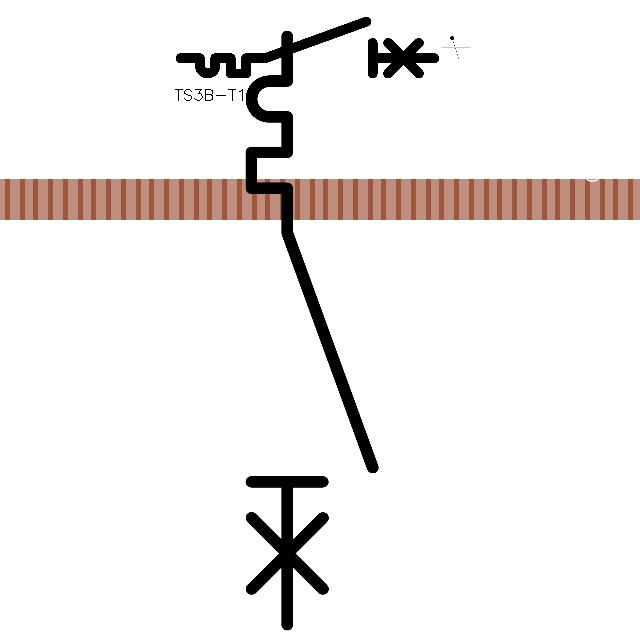interruptor_termomagnetico: (236, 21, 387, 640), (174, 15, 441, 80)
